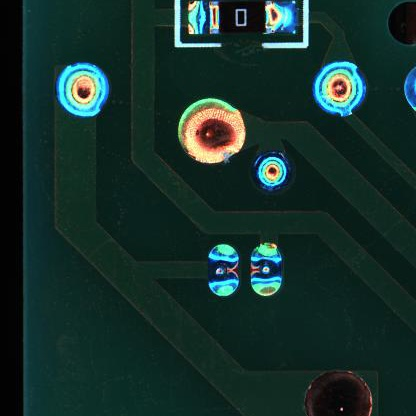spot: (176, 98, 244, 166), (54, 62, 109, 119), (313, 61, 367, 117), (249, 243, 286, 300), (253, 152, 295, 195), (207, 244, 236, 298)
